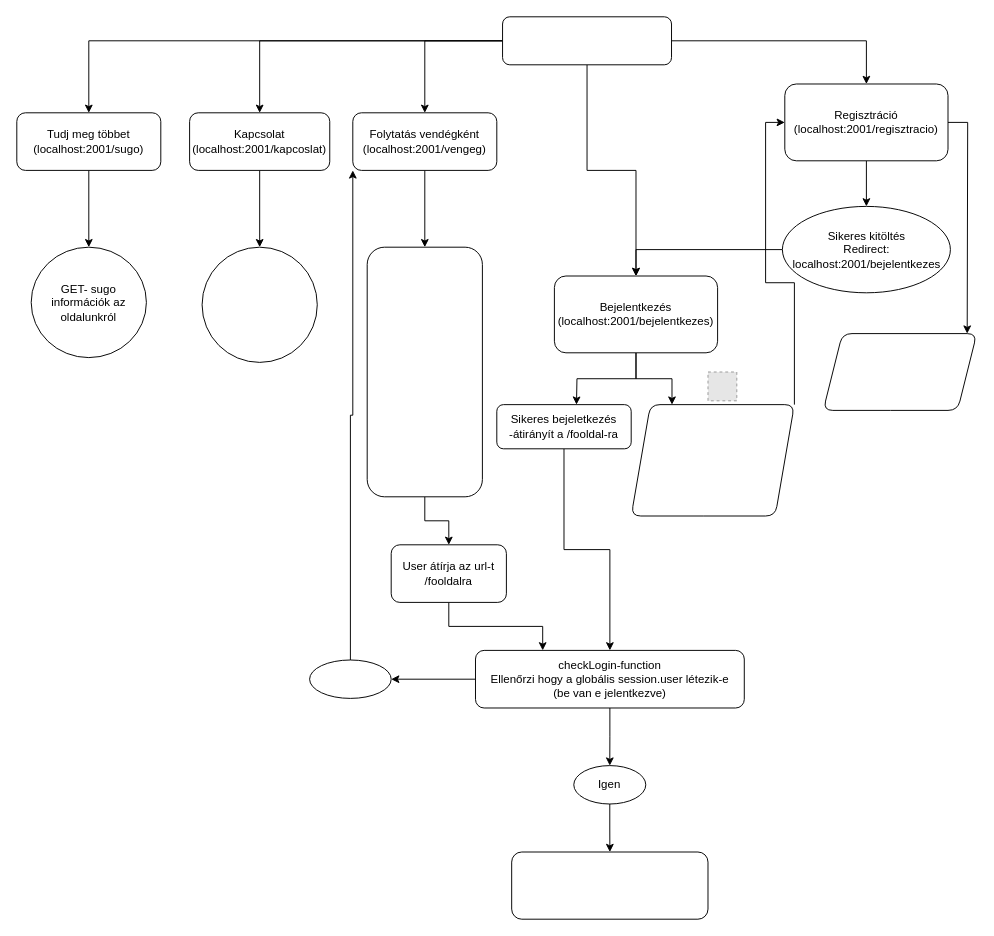
Image size: 994x936. Some labels were removed from this diagram. Grey dashed boxes stand in for pictures. Here are the shapes that lost their labels. From the top down, the box of each, then its label:
(502, 16, 672, 65): Nyitó oldal (elérés: localhost:2001/ )
(822, 333, 977, 410): Sikertelen - registerUser function visszatér egy errorCode(msg)-el
(630, 404, 794, 516): Sikertelen -loginUser function errorcode - próbálja újra, vagy regisztráció
(309, 659, 391, 698): Nem
(511, 851, 708, 919): Főoldal (localost:2001/fooldal)
